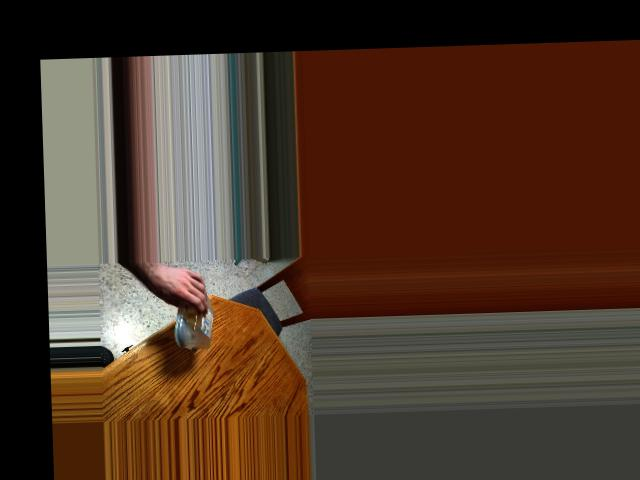cheese: (167, 281, 218, 341)
